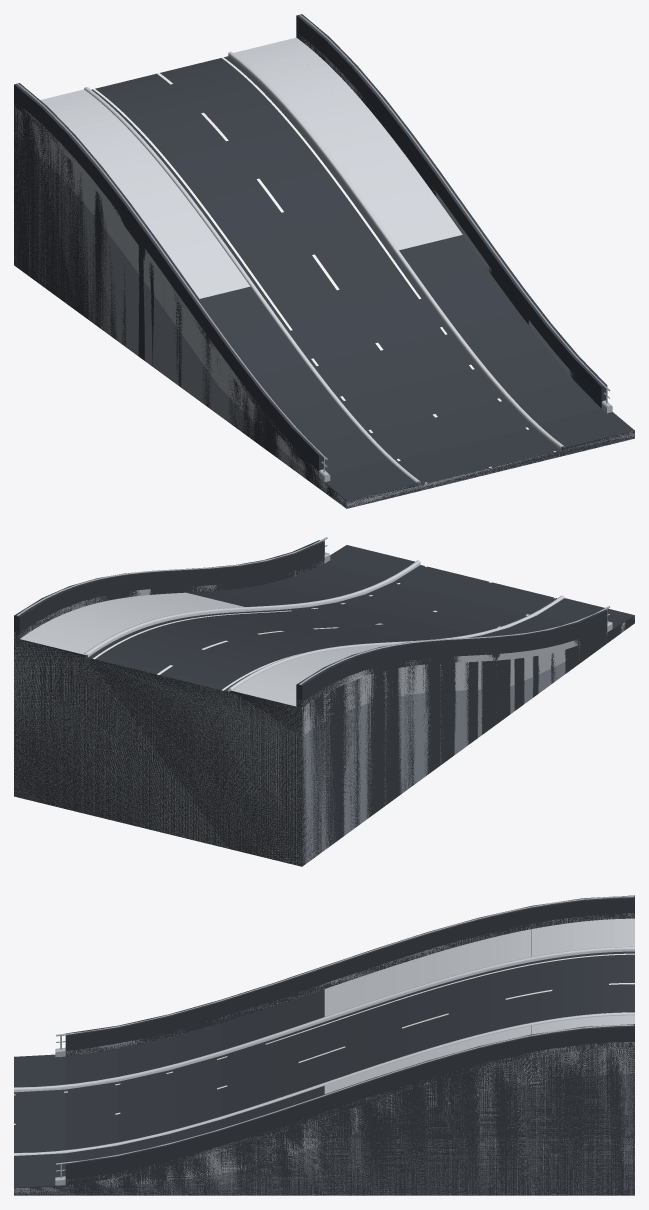
Rendered from rampa_viaduto_rua.glb.
The picture shows the model from 3 angles, top to bottom: view 1: azimuth 30°, elevation 25°; view 2: azimuth 150°, elevation 25°; view 3: azimuth 270°, elevation 25°; orthographic projection. The views are drawn at different scales.
Visible parts, largest first — view 1: colisao_rampa, rampa_viaduto_rua; view 2: colisao_rampa, rampa_viaduto_rua; view 3: colisao_rampa, rampa_viaduto_rua.
Part boxes in pixels (x1,y1,x2,y2): colisao_rampa: [14, 14, 634, 508]; rampa_viaduto_rua: [14, 14, 634, 508]; colisao_rampa: [14, 540, 634, 866]; rampa_viaduto_rua: [14, 537, 634, 866]; colisao_rampa: [14, 895, 634, 1195]; rampa_viaduto_rua: [14, 896, 634, 1195].
Size of the model in its own units: 15 by 9.03 by 30.
Materials: 1 (1 with a texture image).
